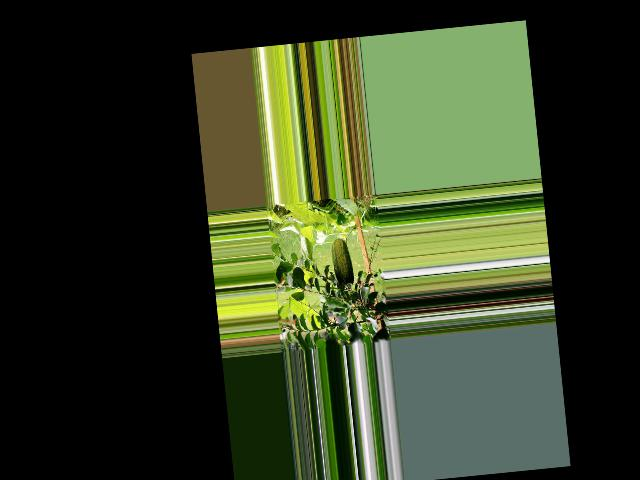cucumber: (330, 237, 355, 291)
